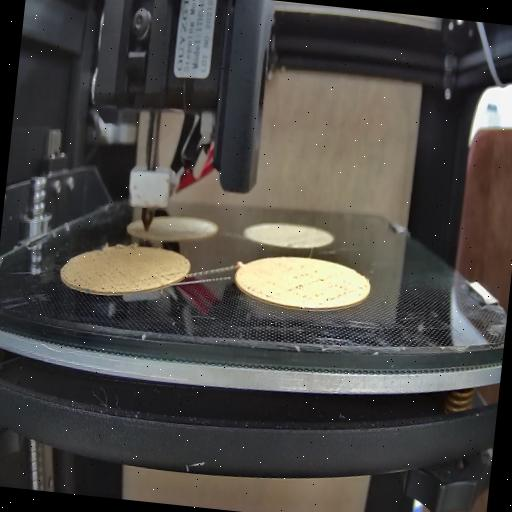under_extrusion: (287, 266, 366, 305), (72, 256, 129, 294), (138, 268, 182, 288), (245, 283, 276, 303)
